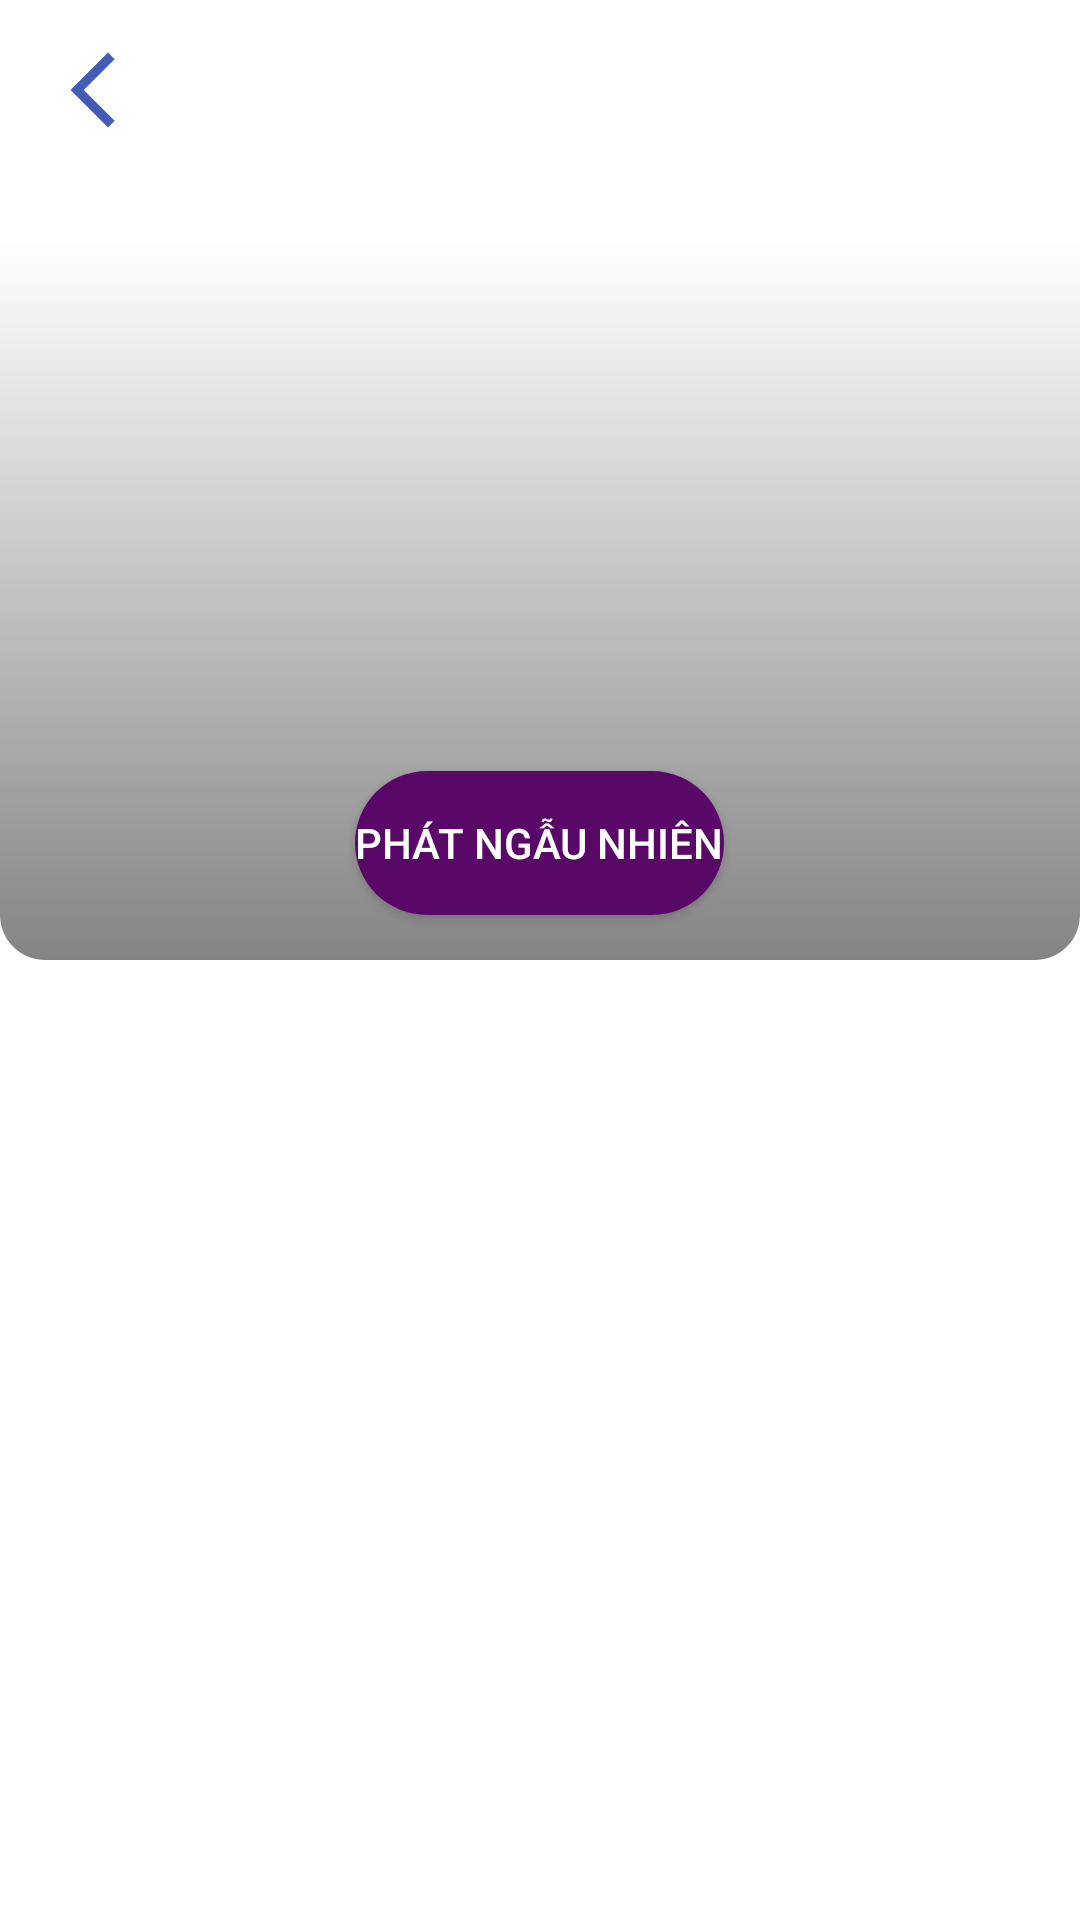

Icon bounding boxes for this 1080 x 1920 phone screenshot, format {"left": x1, "top": y1, "right": x2, "bottom": y2}:
back arrows nobody: {"left": 71, "top": 53, "right": 115, "bottom": 127}
